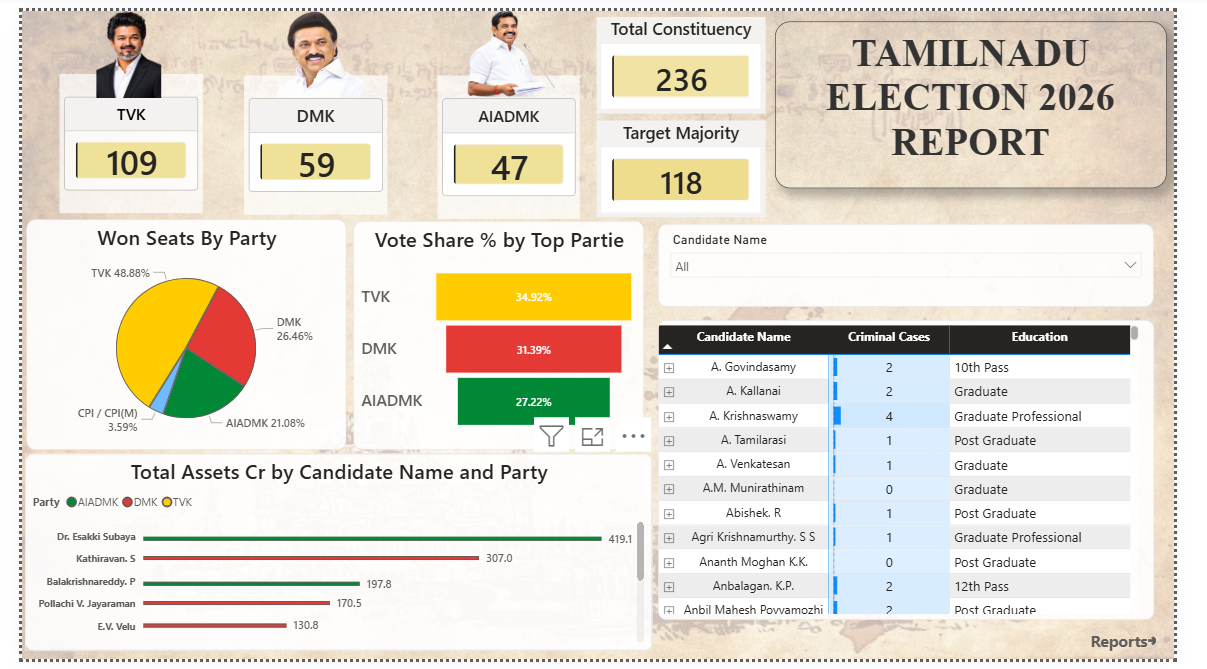

The dashboard page shown, as its layout file describes it:
{"tool":"powerbi","page":{"name":"Election dashboard","canvas":[1280,720],"ordinal":0},"visuals":[{"type":"pieChart","title":"Won Seats By Party","fields":{"Category":["Won Seats.Party"],"Y":["Sum(Won Seats.Won Seats)"]},"box":[4.4,232.4,355.1,255.8],"z":0},{"type":"cardVisual","fields":{"Data":["Sum(Won Seats.Won Seats)"],"Rows":["Won Seats.Party"]},"box":[247,70.9,159.1,154.5],"z":1000,"group":"g2"},{"type":"funnel","title":"Vote Share % by Top Partie","fields":{"Category":["Won Seats.Party"],"Y":["Sum(Won Seats.Vote Share %)"]},"box":[368.3,233.8,323,254.3],"z":1000},{"type":"cardVisual","fields":{"Data":["Sum(Won Seats.Won Seats)"],"Rows":["Won Seats.Party"]},"box":[40.8,70.4,159.2,154.9],"z":2000},{"type":"cardVisual","fields":{"Data":["Sum(Won Seats.Won Seats)"],"Rows":["Won Seats.Party"]},"box":[461.8,71.8,158.2,159.1],"z":2000,"group":"g3"},{"type":"pivotTable","fields":{"Rows":["Candidates.Candidate Name","Candidates.Constituency"],"Values":["Sum(Candidates.Criminal Cases (Int))","Min(Candidates.Education)"]},"box":[707.4,342.6,551.1,333.2],"z":3000},{"type":"textbox","box":[837.4,11.7,435.5,185.6],"z":4000},{"type":"cardVisual","title":"Target Majority","fields":{"Data":["Candidates.Target_Majority"]},"box":[639,121.1,187.8,107.5],"z":5000},{"type":"image","box":[271.3,0,110,95.7],"z":6000,"group":"g2"},{"type":"clusteredBarChart","title":"Total Assets Cr by Candidate Name and Party","fields":{"Category":["Candidates.Candidate Name"],"Series":["Candidates.Party"],"Y":["Sum(Candidates.Total Assests Cr)"]},"box":[2.9,491.1,697.1,219.2],"z":6000},{"type":"group","id":"g1","title":"Group 1","box":[56.1,0,124.3,96.4],"z":7000},{"type":"image","box":[56.1,0,124.3,96.4],"z":7000,"group":"g1"},{"type":"image","box":[481.8,0,120,95.5],"z":7000,"group":"g3"},{"type":"group","id":"g2","title":"Group 2","box":[247,0,159.1,225.5],"z":8000},{"type":"group","id":"g3","title":"Group 3","box":[461.8,0,159,230.2],"z":9000},{"type":"slicer","fields":{"Values":["Candidates.Candidate Name"]},"box":[707.3,236.8,551,92.1],"z":10000},{"type":"cardVisual","title":"Total Constituency","fields":{"Data":["CountNonNull(Candidates.Constituency)"]},"box":[639,6.1,187.8,107.5],"z":11000},{"type":"actionButton","box":[1153.1,675.2,119.8,45.3],"z":12000}]}

Visuals, with their boxes in screenshot pixels (x1, y1, x2, y2), scaled from the page's 1280x720 canvas onto the 1207x669 screenshot:
"Won Seats By Party" pieChart: 4 216 339 454
cardVisual - Sum(Won Seats.Won Seats) x Won Seats.Party: 233 66 383 209
"Vote Share % by Top Partie" funnel: 347 217 652 454
cardVisual - Sum(Won Seats.Won Seats) x Won Seats.Party: 38 65 189 209
cardVisual - Sum(Won Seats.Won Seats) x Won Seats.Party: 435 67 585 215
pivotTable - Candidates.Candidate Name x Candidates.Constituency: 667 318 1187 628
textbox: 790 11 1200 183
"Target Majority" cardVisual: 603 113 780 212
image: 256 0 360 89
"Total Assets Cr by Candidate Name and Party" clusteredBarChart: 3 456 660 660
"Group 1" group: 53 0 170 90
image: 53 0 170 90
image: 454 0 567 89
"Group 2" group: 233 0 383 210
"Group 3" group: 435 0 585 214
slicer - Candidates.Candidate Name: 667 220 1187 306
"Total Constituency" cardVisual: 603 6 780 106
actionButton: 1087 627 1200 668
